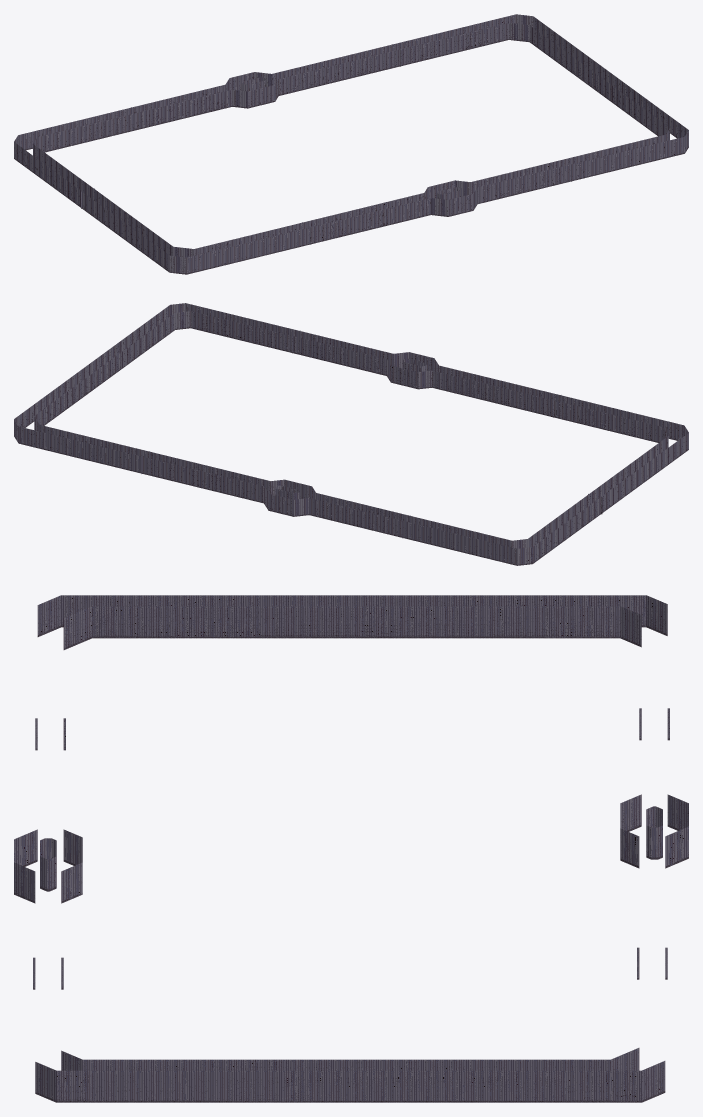
File: EndRawTrack.glb
The picture shows the model from 3 angles, top to bottom: view 1: azimuth 30°, elevation 25°; view 2: azimuth 150°, elevation 25°; view 3: azimuth 270°, elevation 25°; orthographic projection. The views are drawn at different scales.
Visible parts, largest first — view 1: polished_blackstone_bricks.004; view 2: polished_blackstone_bricks.004; view 3: polished_blackstone_bricks.004.
Part boxes in pixels (box(x1,y1,x2,y2)): polished_blackstone_bricks.004: box(14, 14, 688, 274); polished_blackstone_bricks.004: box(14, 303, 688, 565); polished_blackstone_bricks.004: box(14, 595, 688, 1102).
Bounding box in the file's own units: 476 × 15 × 285.
Materials: 3 (3 with a texture image).
